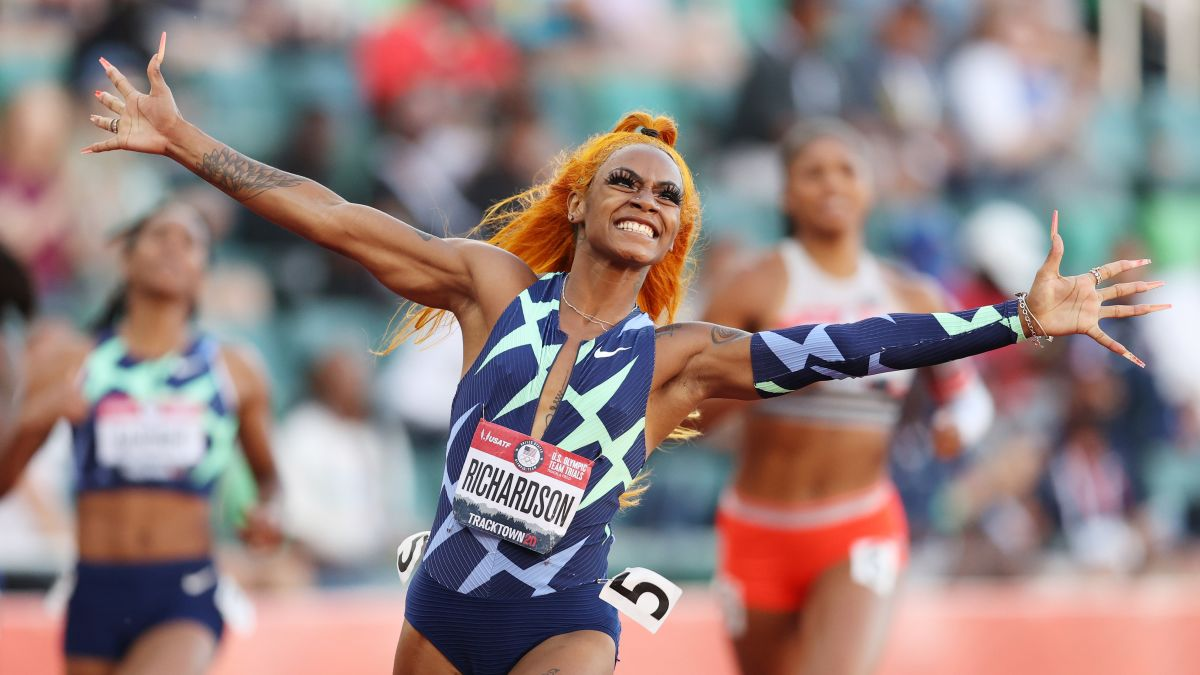runner: (394, 90, 797, 675), (25, 203, 285, 675)
